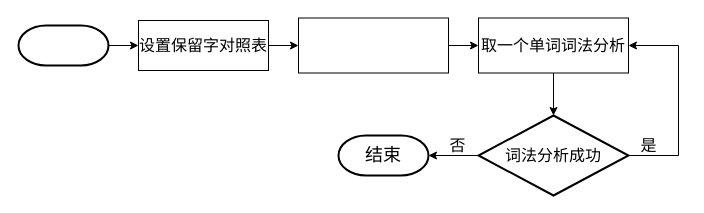
Image size: 704x213. Some labels were removed from this diagram. Each missing label, with the box of its shape:
开始: (17, 24, 109, 66)
源程序指向起始位置: (298, 17, 448, 73)
